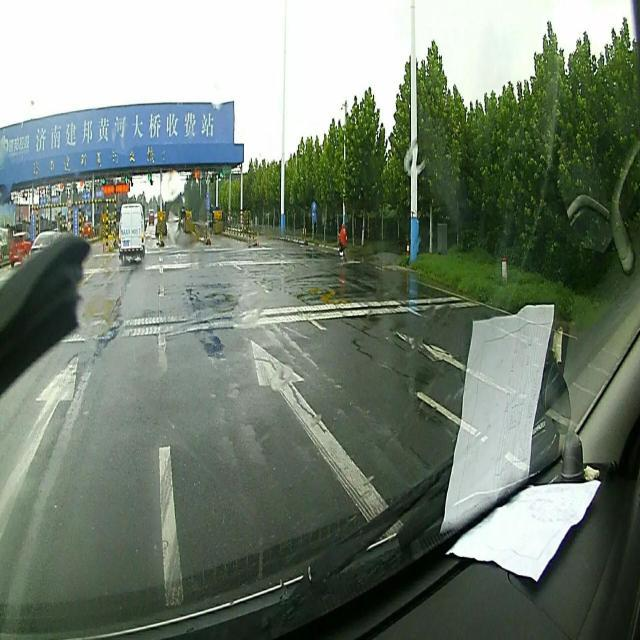car: (118, 200, 144, 260), (29, 228, 68, 263), (10, 231, 35, 267)
